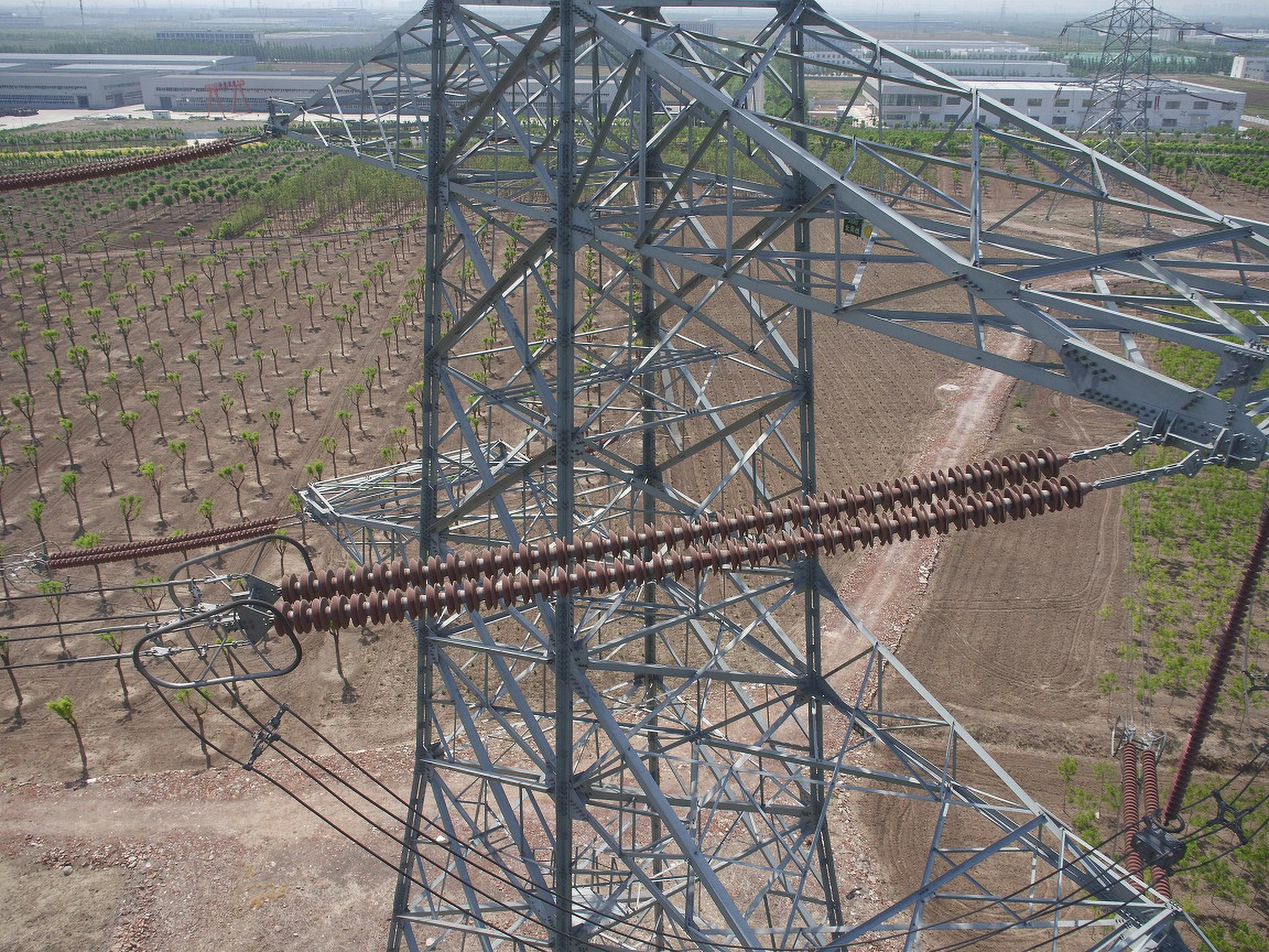insulator: (270, 445, 1087, 641), (1160, 496, 1269, 821), (44, 514, 281, 571), (1, 136, 237, 193), (1120, 740, 1173, 906)
